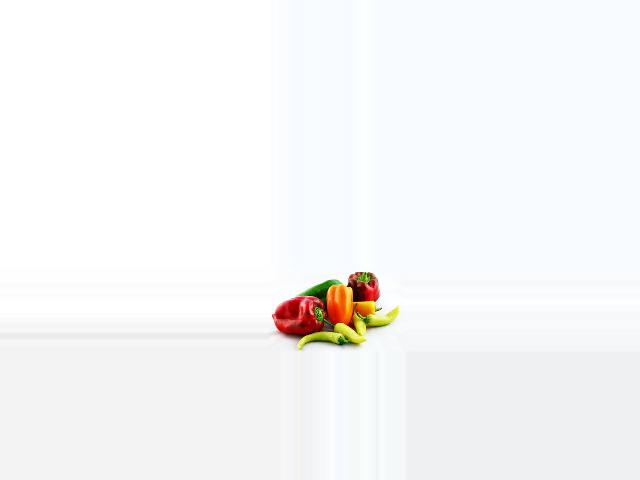bell_pepper: (293, 332, 352, 348)
